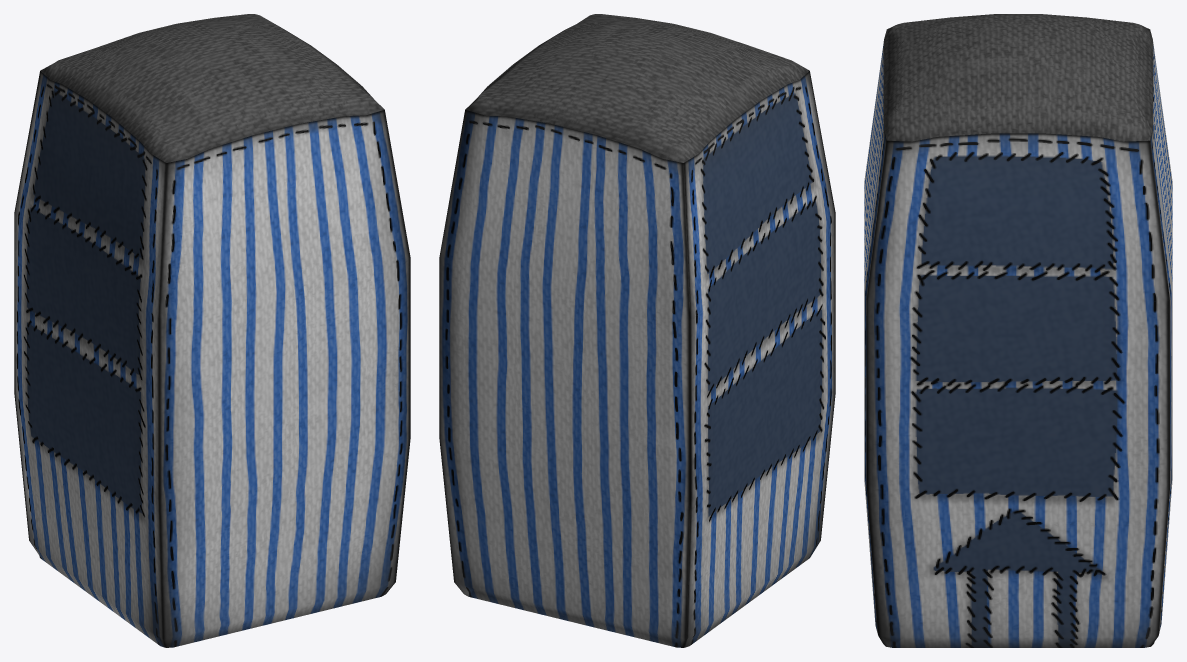
The model's file is house2.fbx.
3 renders of one model, left to right at view 1: azimuth 30°, elevation 25°; view 2: azimuth 150°, elevation 25°; view 3: azimuth 270°, elevation 25°, orthographic. The views are drawn at different scales.
Visible parts, largest first — view 1: pCube1; view 2: pCube1; view 3: pCube1.
Boxes of the visible parts, x1,y1,x2,y2 form: pCube1: (14,14,410,647); pCube1: (439,14,835,647); pCube1: (864,14,1172,647).
Bounding box in the file's own units: 6 × 11.86 × 6.
1 material, 1 textured.
